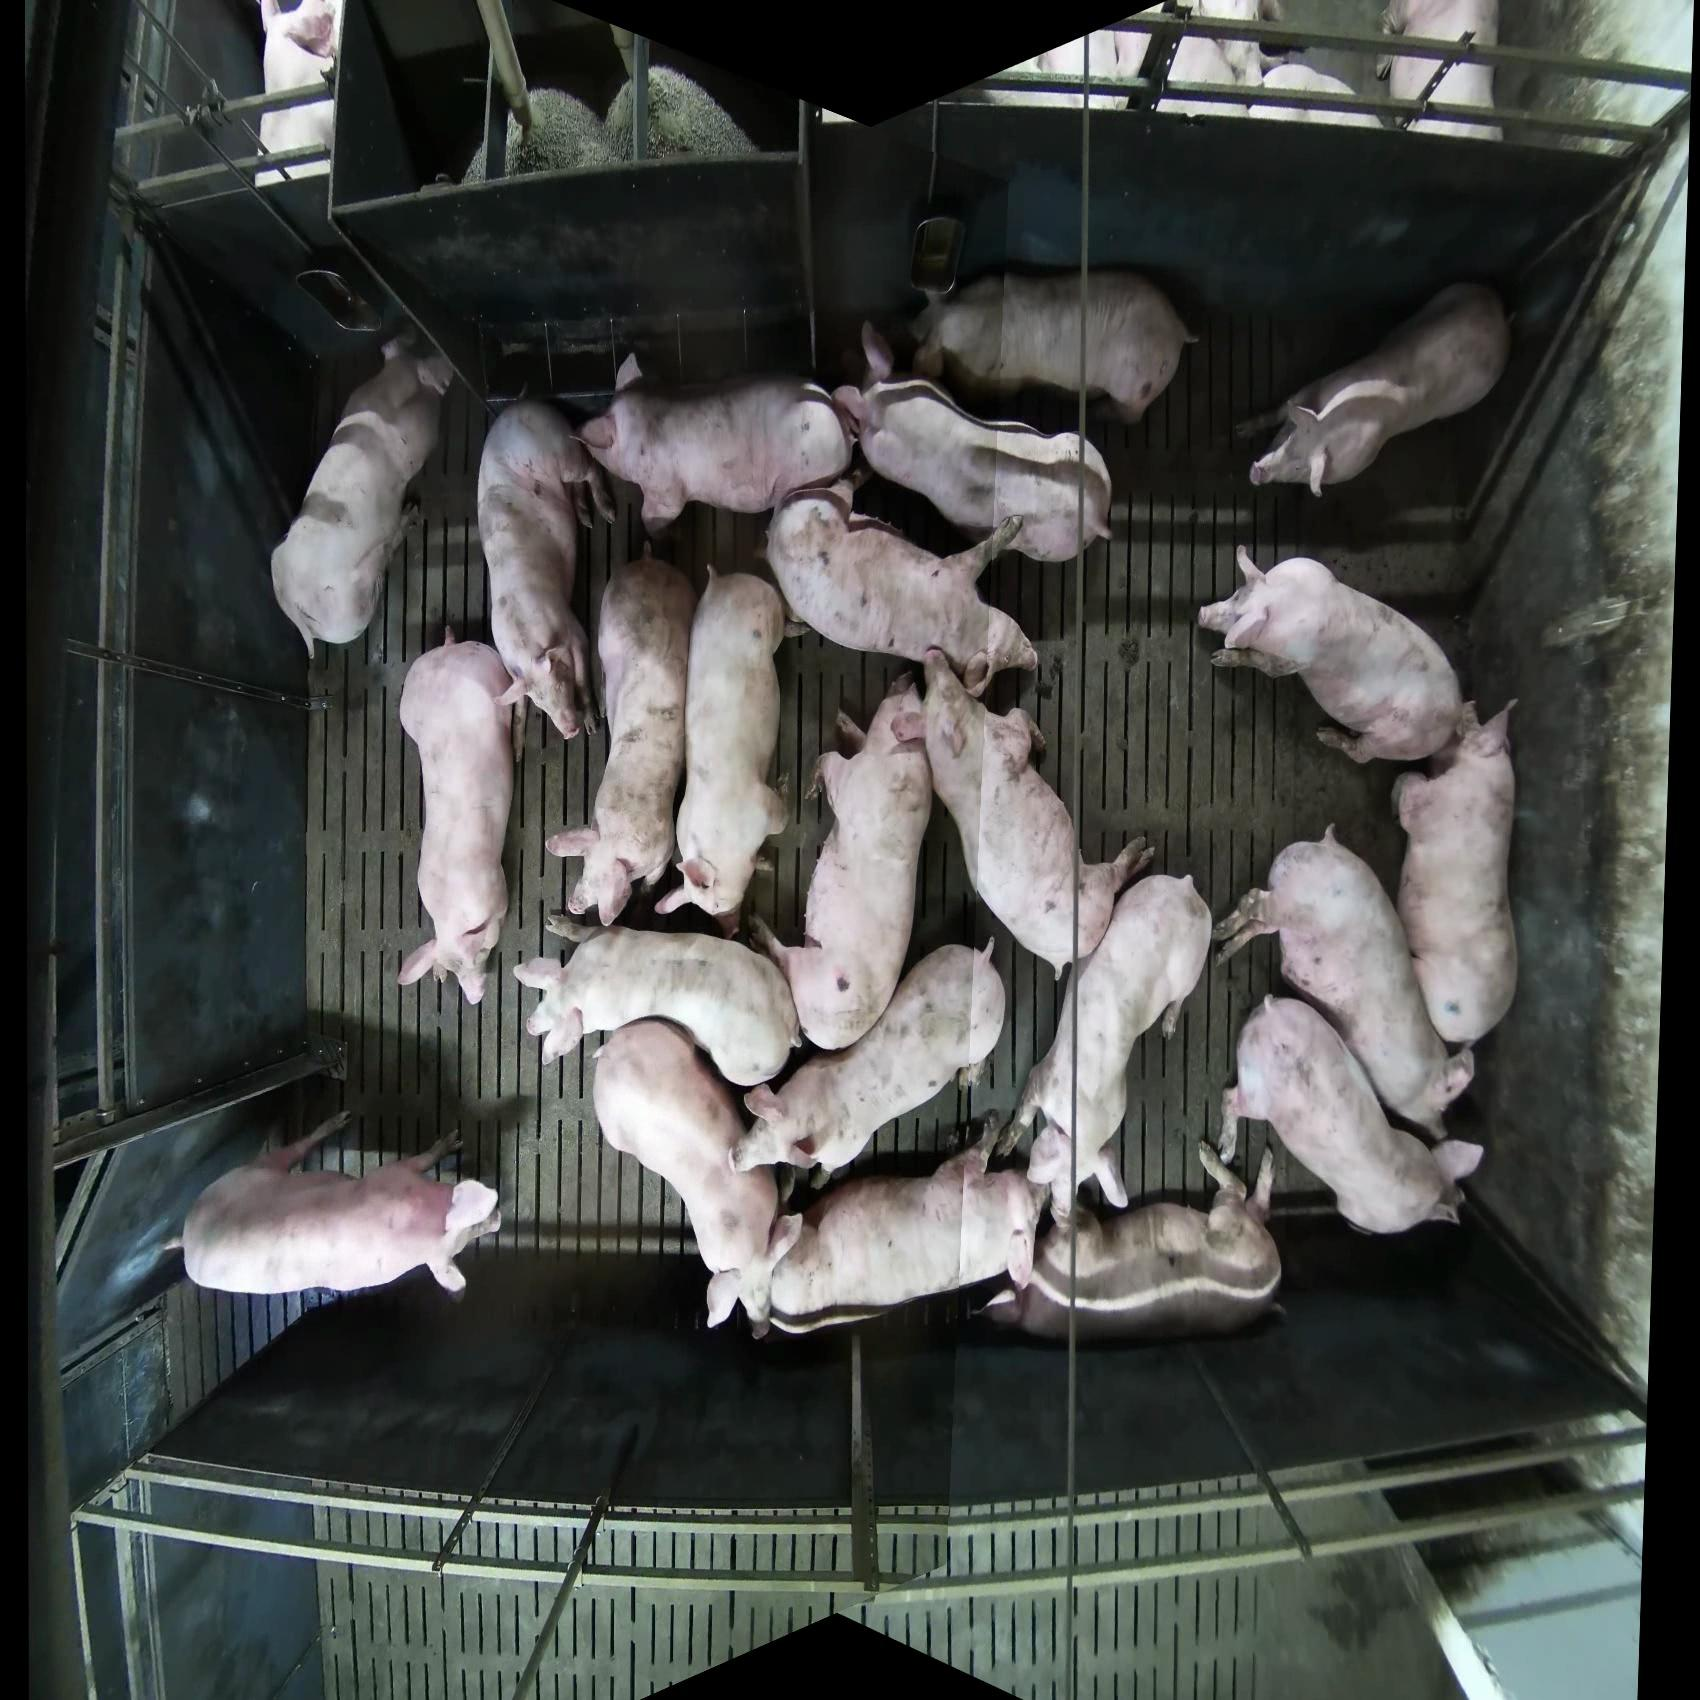pig: (1213, 824, 1476, 1144), (922, 646, 1155, 979), (995, 870, 1214, 1219), (749, 673, 936, 1052), (588, 1017, 805, 1340), (730, 939, 1007, 1191), (834, 321, 1115, 565), (1224, 993, 1487, 1238), (162, 1112, 503, 1300), (763, 475, 1041, 702), (982, 1136, 1284, 1342), (1196, 543, 1471, 767), (269, 332, 456, 662), (1238, 280, 1512, 500), (763, 1136, 1046, 1337), (545, 551, 696, 928), (576, 350, 859, 536), (652, 567, 794, 933), (511, 915, 802, 1090), (475, 399, 618, 741), (395, 634, 522, 1007), (904, 268, 1200, 427), (1392, 696, 1519, 1049), (1035, 23, 1256, 114), (1379, 2, 1501, 139), (602, 64, 761, 165), (258, 2, 342, 185), (501, 89, 620, 177), (1186, 2, 1277, 114), (1249, 61, 1389, 131)
